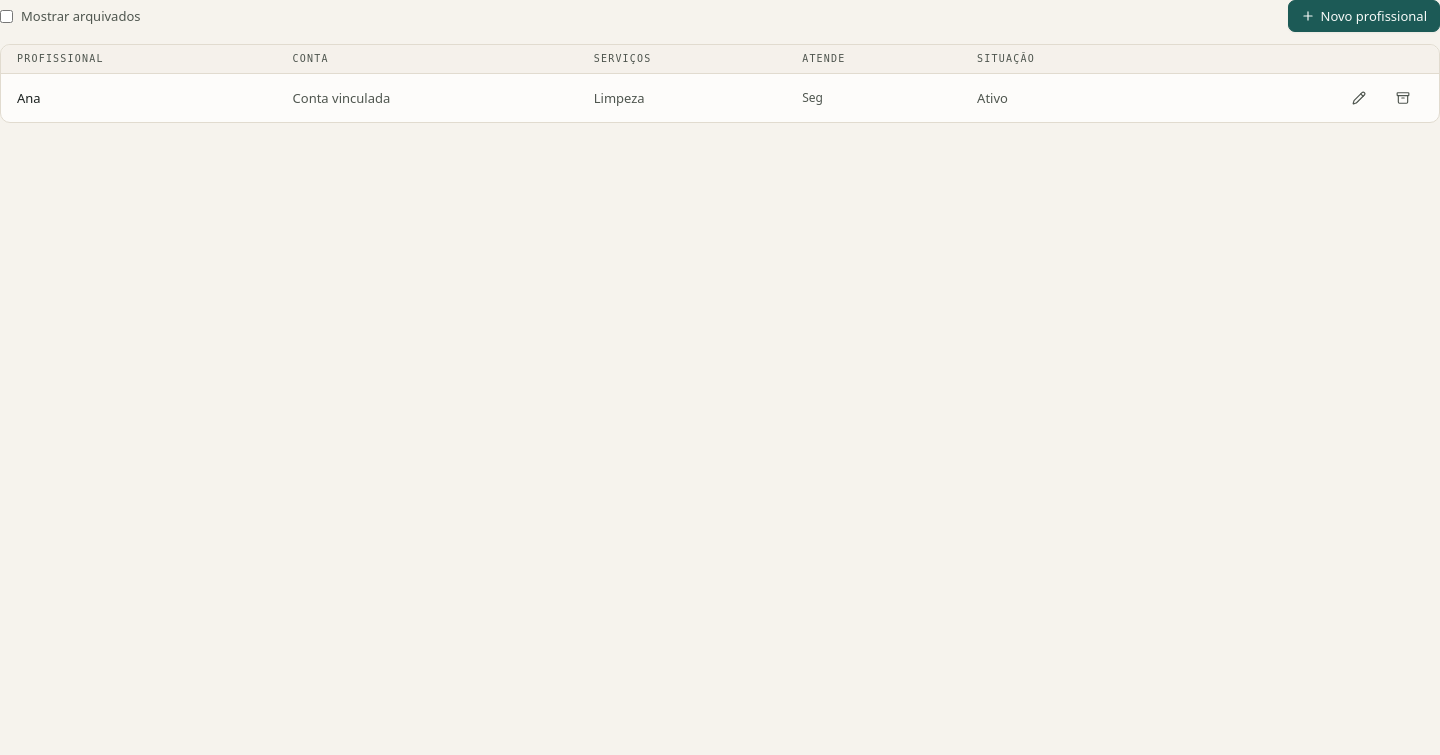
drawer do profissional — limites de salvamento e o aviso do vínculo › o perfil vai num pedido só; se o servidor recusa, a tela diz que NADA foi salvo
Click the button named "Editar Ana". click: point(1359, 98)
box: 1339,82 -> 1379,114
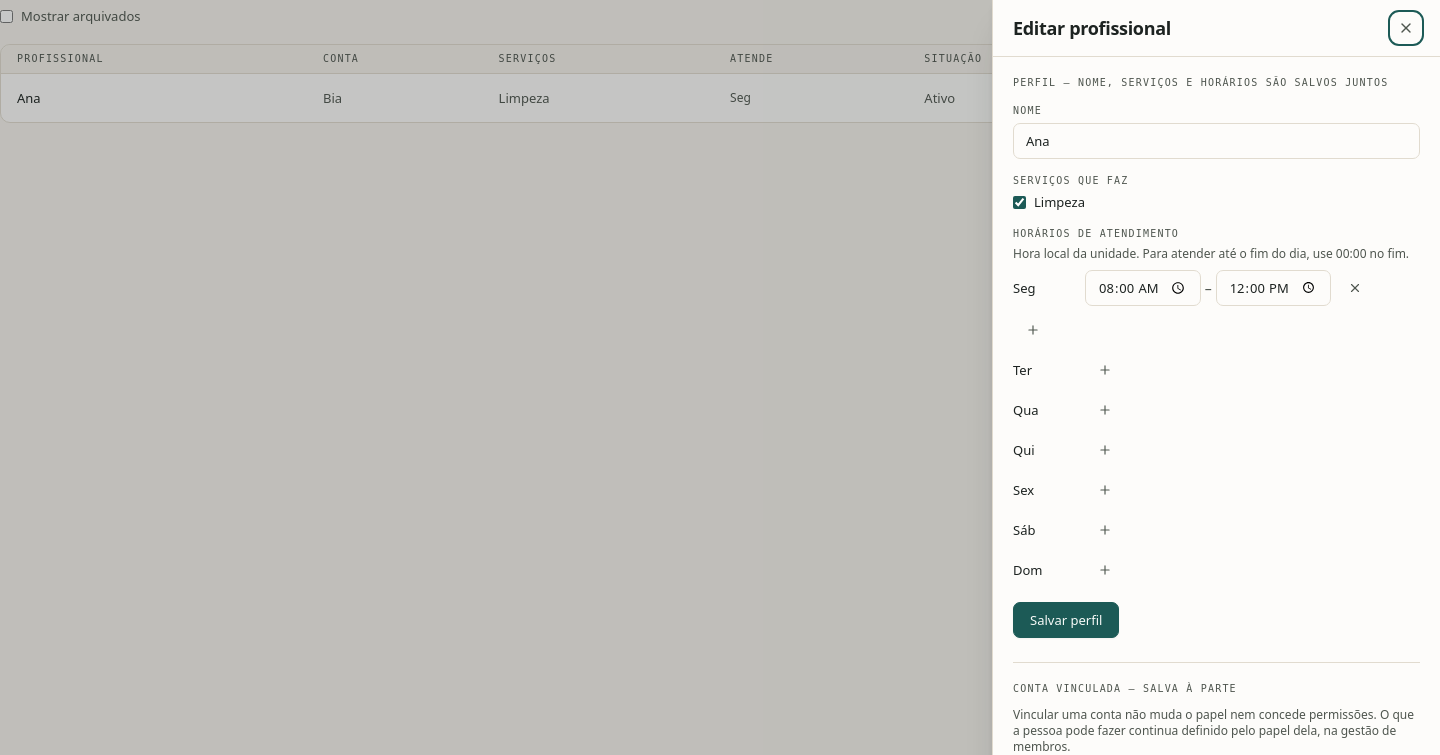
Click the button "Salvar perfil". click: point(1066, 620)
box: 1013,602 -> 1119,638
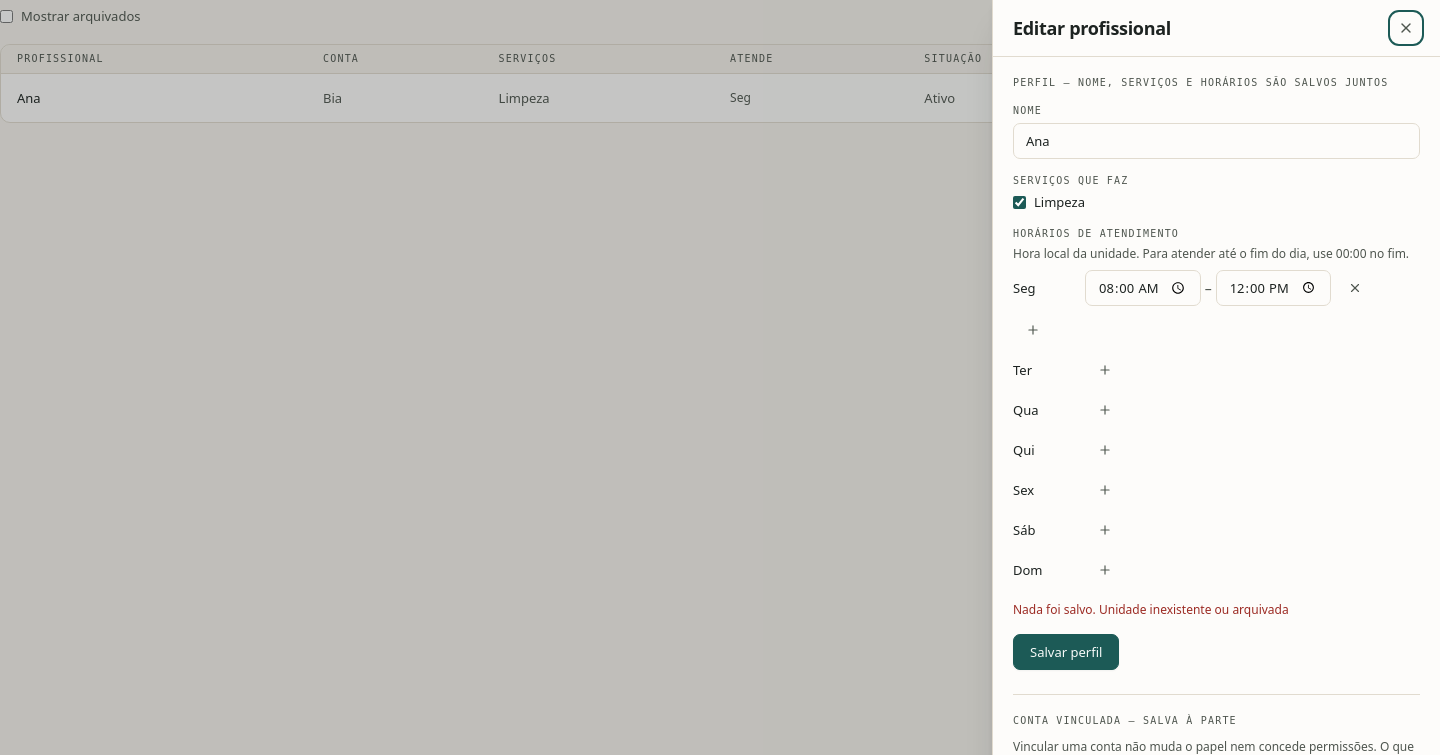
expect the message reads "Nada foi salvo. Unidade inexistente ou arquivada": met, box 1013,601 -> 1289,618
